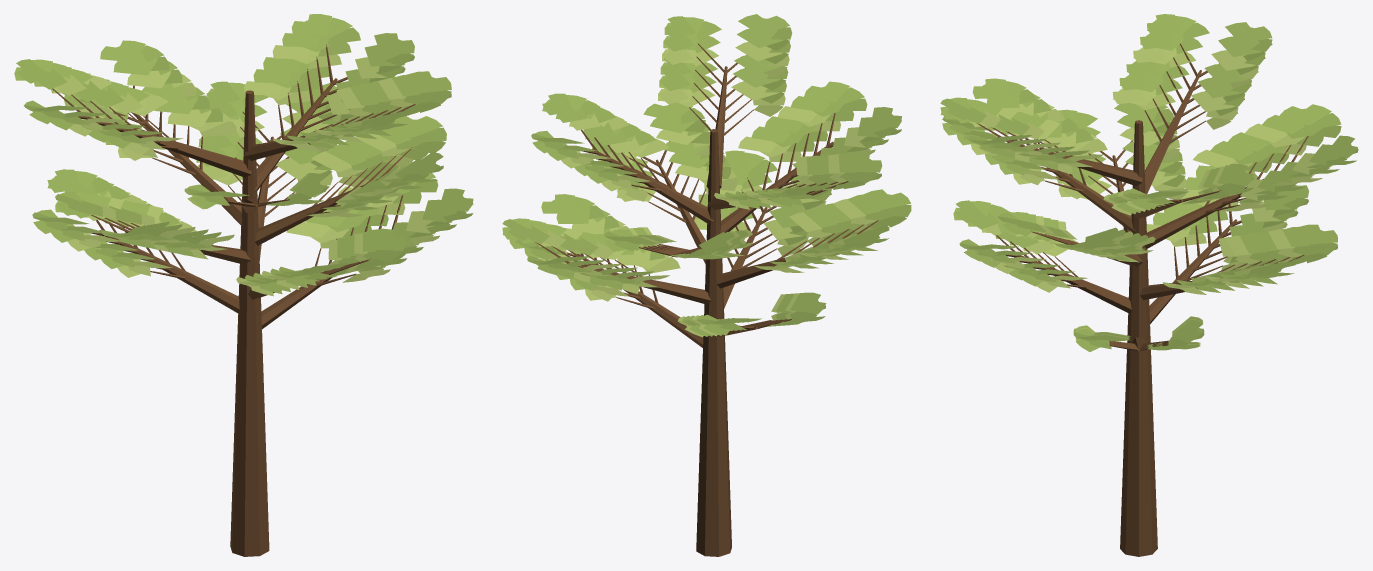
File: ginkgo_lod0.glb
3 views of the same model, side by side, from view 1: azimuth 30°, elevation 25°; view 2: azimuth 150°, elevation 25°; view 3: azimuth 270°, elevation 25° (orthographic). The views are drawn at different scales.
Parts seen in each view (by area): view 1: ginkgo_lod0; view 2: ginkgo_lod0; view 3: ginkgo_lod0.
Part boxes in pixels (bbox=[...]): ginkgo_lod0: bbox=[14, 14, 473, 556]; ginkgo_lod0: bbox=[502, 14, 911, 556]; ginkgo_lod0: bbox=[940, 14, 1358, 556].
Bounding box in the file's own units: 4.8 × 5.66 × 4.63.
